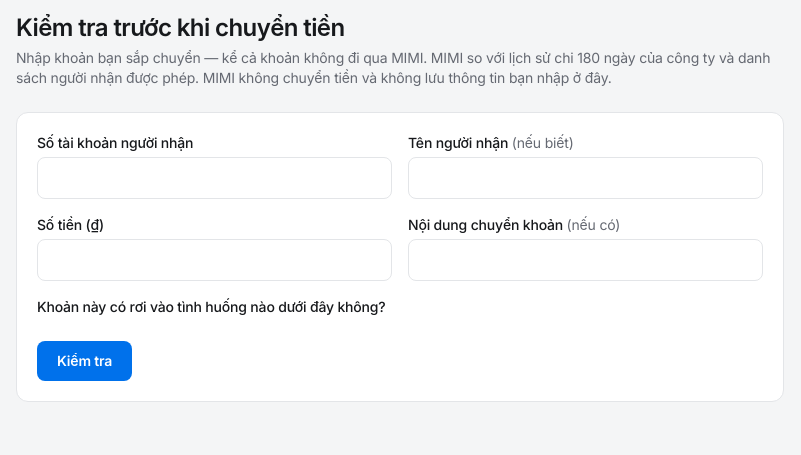
Test: Kiểm tra trước khi chuyển tiền › thiếu số tài khoản hoặc số tiền: báo tại chỗ, không gọi máy chủ
The width and height of the screenshot is (801, 455).
In the field labelled "Số tài khoản người nhận": {"x": 214, "y": 178} [37,157,392,199], type "12"
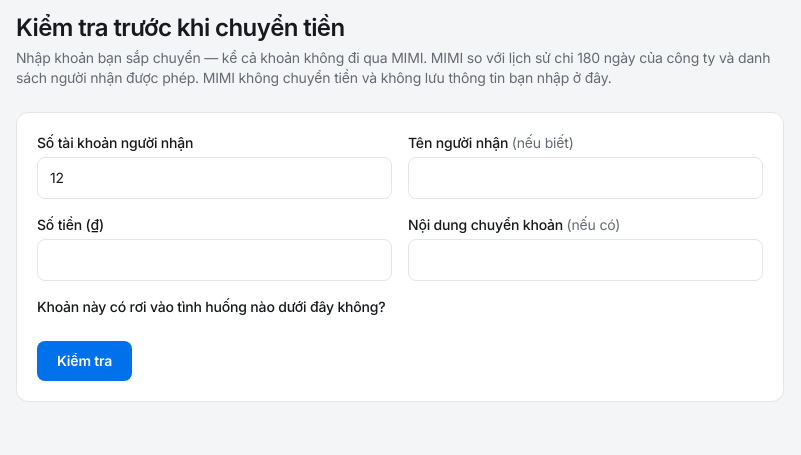
Click the button "Kiểm tra": {"x": 85, "y": 361} [37,341,132,381]
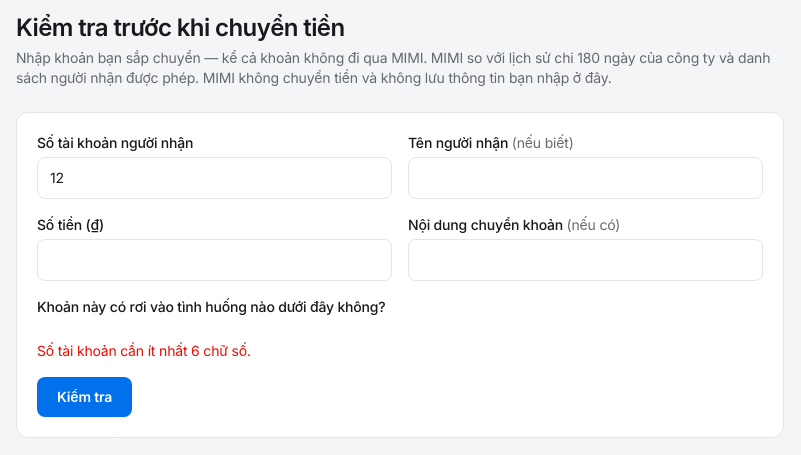
Check: the message shows "ít nhất 6 chữ số", box [37,342,251,359]
Replace the text in the field labelled "Số tài khoản người nhận" with "0123456789": {"x": 214, "y": 178} [37,157,392,199]
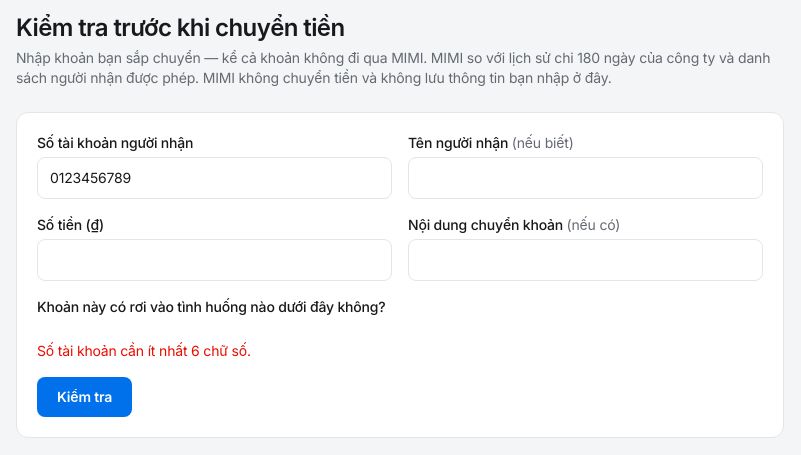
Click the button "Kiểm tra": {"x": 85, "y": 397} [37,377,132,417]
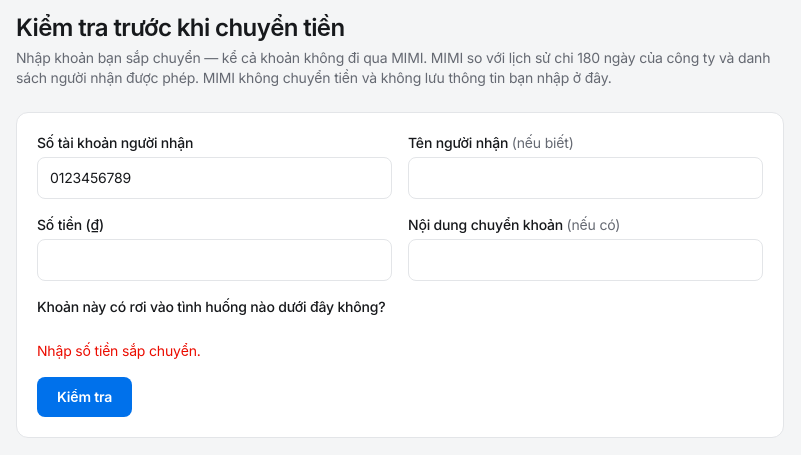
Check: the message shows "Nhập số tiền", box [37,342,201,359]
